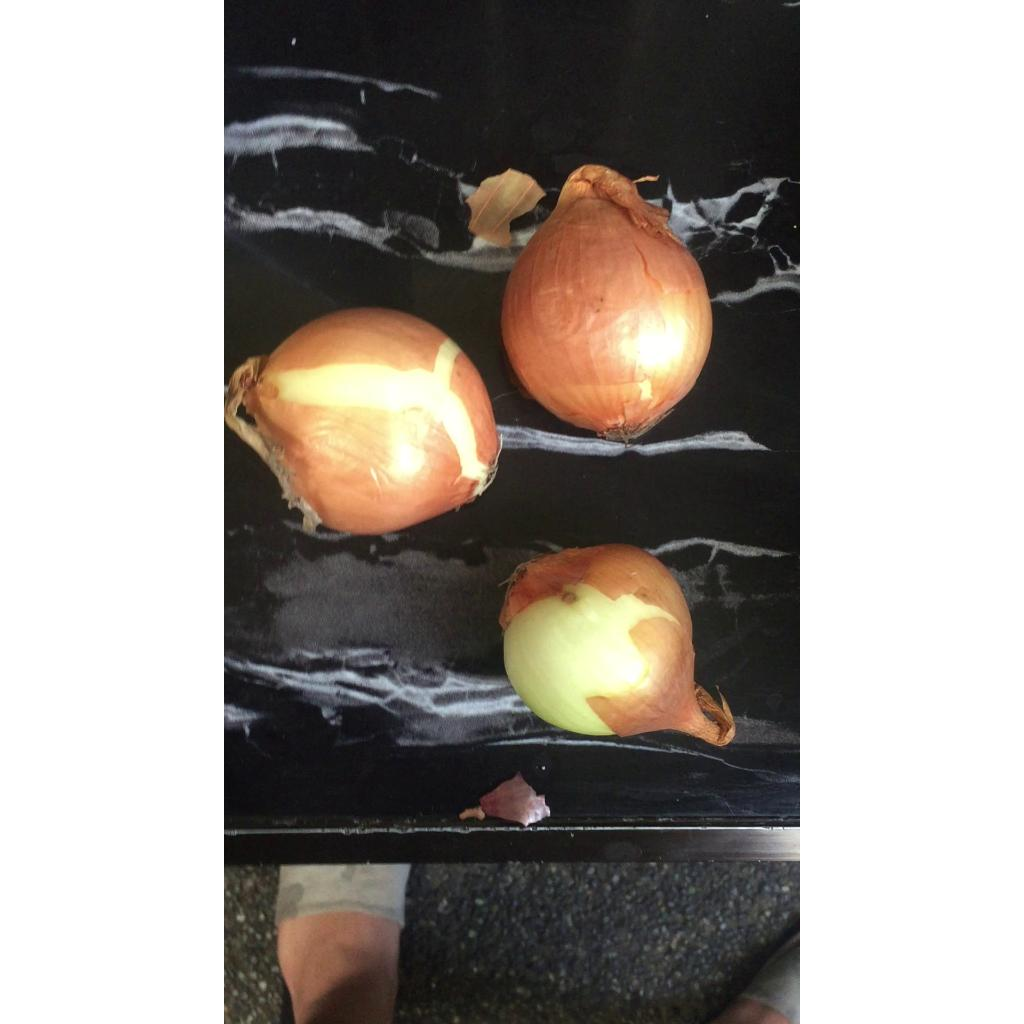Onion: (225, 308, 499, 534), (501, 164, 713, 440), (499, 545, 735, 746)
